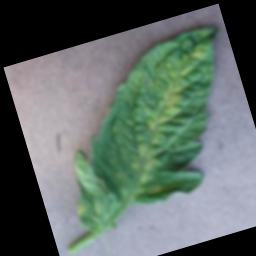Leaf_Mold: (105, 41, 240, 186), (73, 200, 85, 217)
